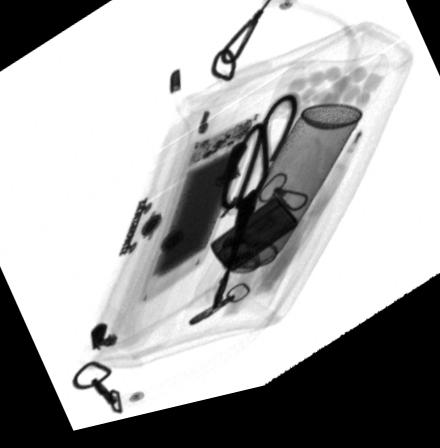Lighter: (211, 210, 296, 282)
Powerbank: (135, 123, 263, 315)
Scissors: (209, 107, 298, 321)
Sprayer: (191, 118, 363, 317)
